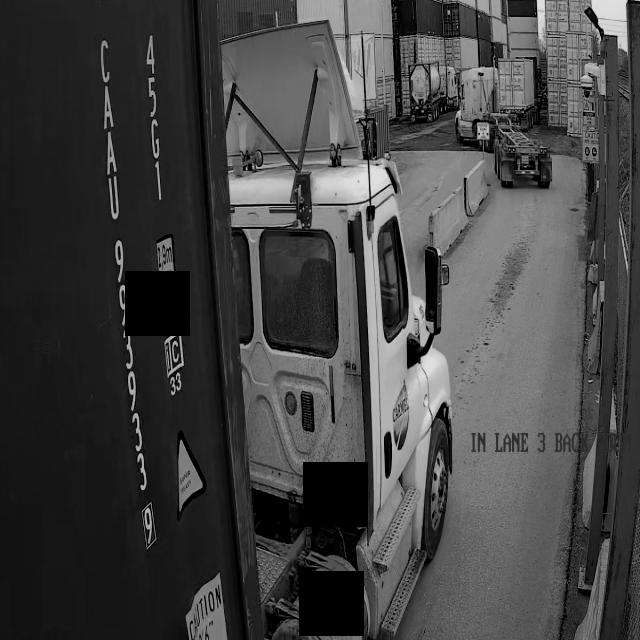container_side_no: (92, 25, 164, 564)
truck_company: (393, 381, 409, 449)
truck_with_container: (0, 0, 452, 640)
truck_without_container: (455, 66, 551, 187)
